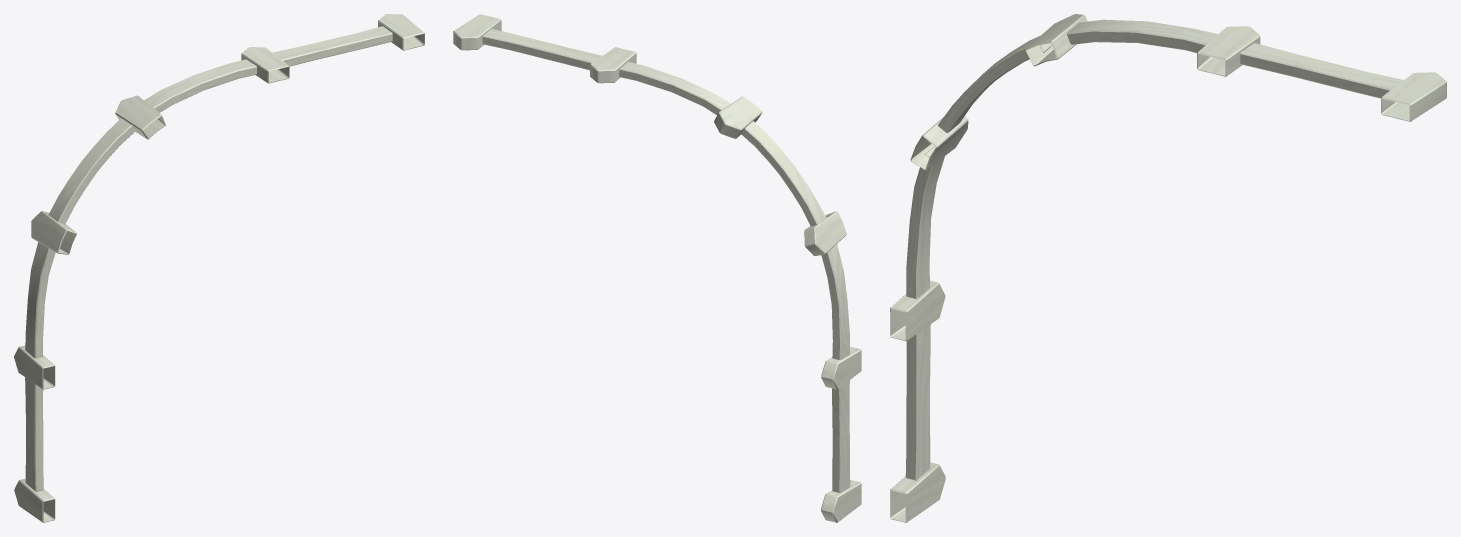
The model's file is FenceLongCurved.FBX.
3 views of the same model, side by side, from view 1: azimuth 30°, elevation 25°; view 2: azimuth 150°, elevation 25°; view 3: azimuth 330°, elevation 25° (orthographic). The views are drawn at different scales.
Visible parts, largest first — view 1: pCube721__CommonWood03; view 2: pCube721__CommonWood03; view 3: pCube721__CommonWood03.
Part boxes in pixels (bbox=[...]): pCube721__CommonWood03: bbox=[14, 14, 424, 522]; pCube721__CommonWood03: bbox=[453, 14, 861, 522]; pCube721__CommonWood03: bbox=[890, 14, 1446, 522].
Size of the model in its own units: 907 by 899 by 119.
